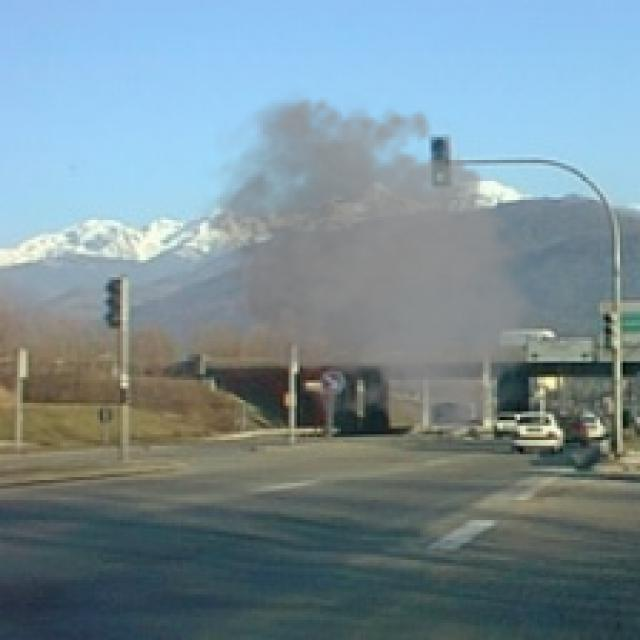Smoke: (188, 86, 548, 440)
